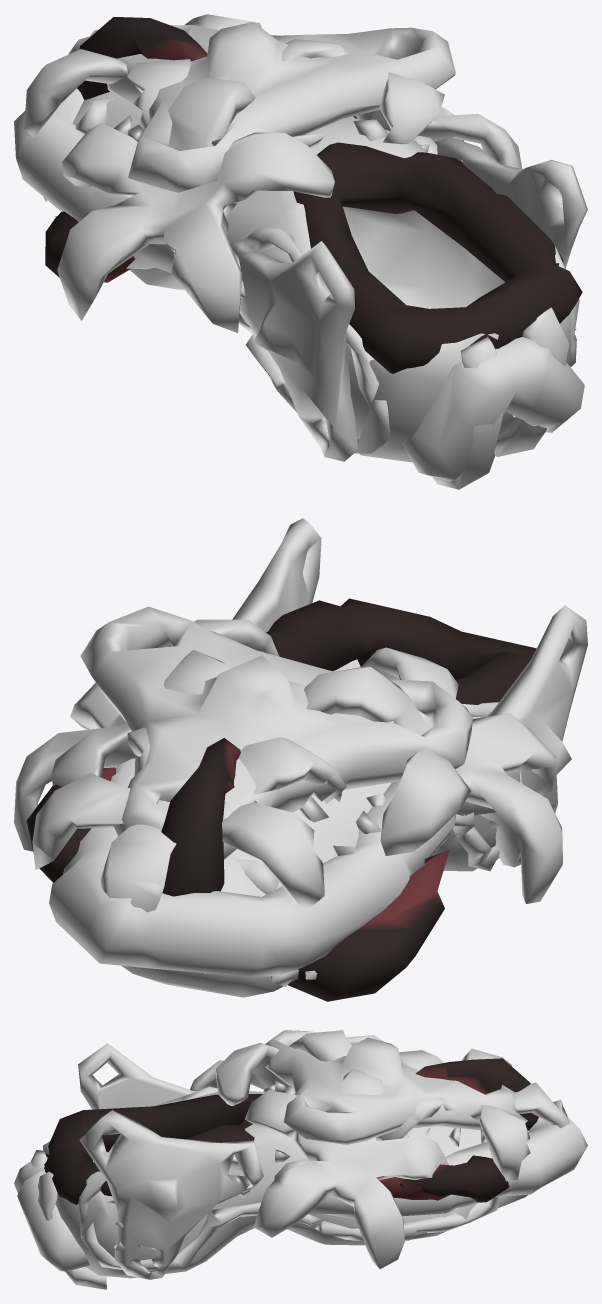
The model's file is mshoe-decals.fbx.
The picture shows the model from 3 angles, top to bottom: view 1: azimuth 30°, elevation 25°; view 2: azimuth 150°, elevation 25°; view 3: azimuth 270°, elevation 25°; orthographic projection. The views are drawn at different scales.
Parts seen in each view (by area): view 1: decald, decala-plant, decalb, base, decalc; view 2: decald, decala-plant, decalb, base, decalc; view 3: decald, decala-plant, decalb, base, decalc.
Part boxes in pixels (x1=…): decald: x1=14, y1=21, x2=587, y2=481; decala-plant: x1=24, y1=14, x2=522, y2=332; decalb: x1=45, y1=17, x2=582, y2=373; base: x1=72, y1=91, x2=571, y2=462; decalc: x1=43, y1=98, x2=579, y2=489; decald: x1=49, y1=518, x2=587, y2=976; decala-plant: x1=14, y1=619, x2=562, y2=912; decalb: x1=26, y1=598, x2=536, y2=1001; base: x1=121, y1=659, x2=496, y2=997; decalc: x1=204, y1=702, x2=505, y2=986; decald: x1=14, y1=1030, x2=587, y2=1279; decala-plant: x1=190, y1=1030, x2=569, y2=1269; decalb: x1=44, y1=1058, x2=538, y2=1204; base: x1=43, y1=1091, x2=528, y2=1278; decalc: x1=31, y1=1080, x2=498, y2=1289.
Size of the model in its own units: 0.2017 by 0.3074 by 0.1311.
